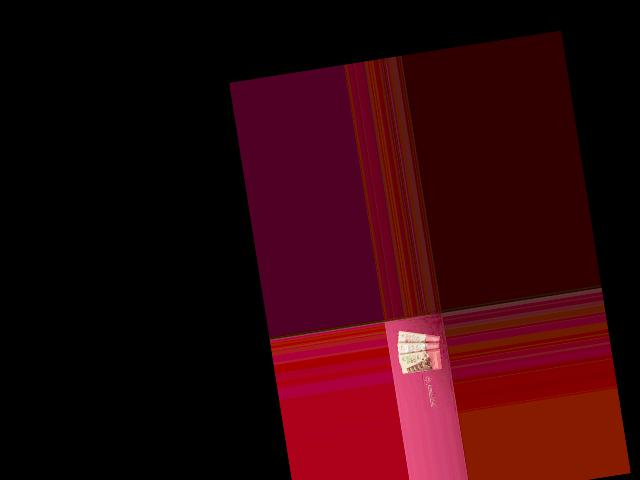chocolate: (394, 324, 443, 352)
